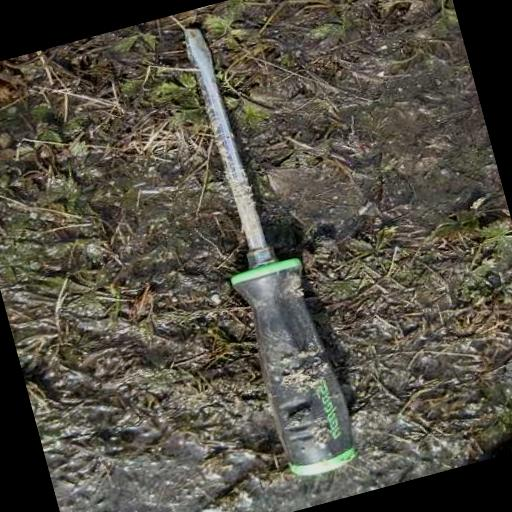screwdriver: (162, 14, 363, 482)
